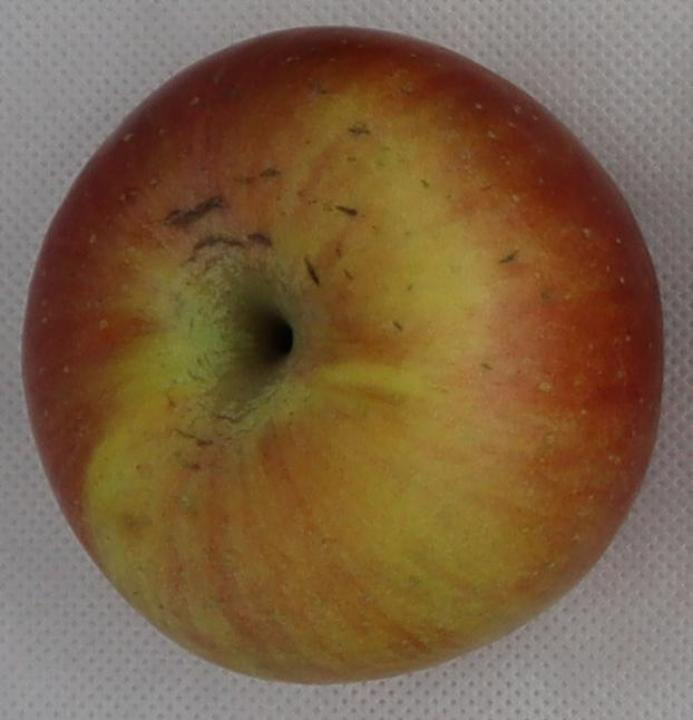apple: (23, 28, 662, 681)
bruise_discoloration: (193, 249, 299, 422)
surface_damage: (164, 196, 223, 225), (305, 256, 319, 285), (249, 233, 272, 245), (335, 205, 358, 215), (259, 167, 281, 176)
